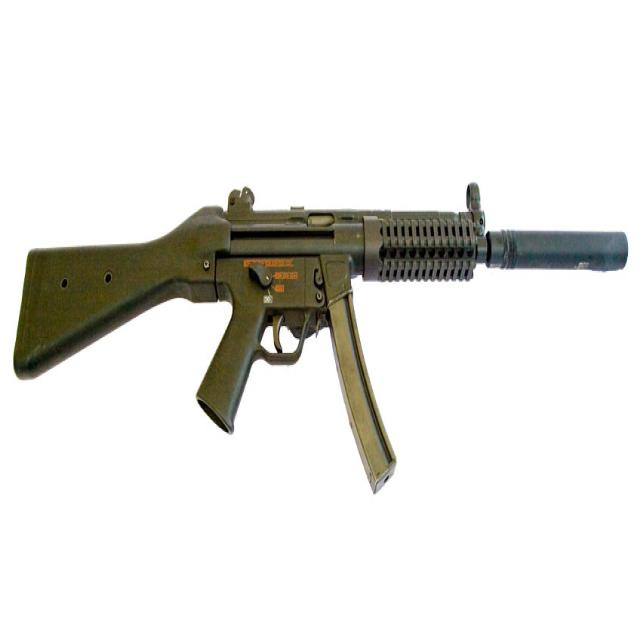SMG: (12, 184, 629, 496)
